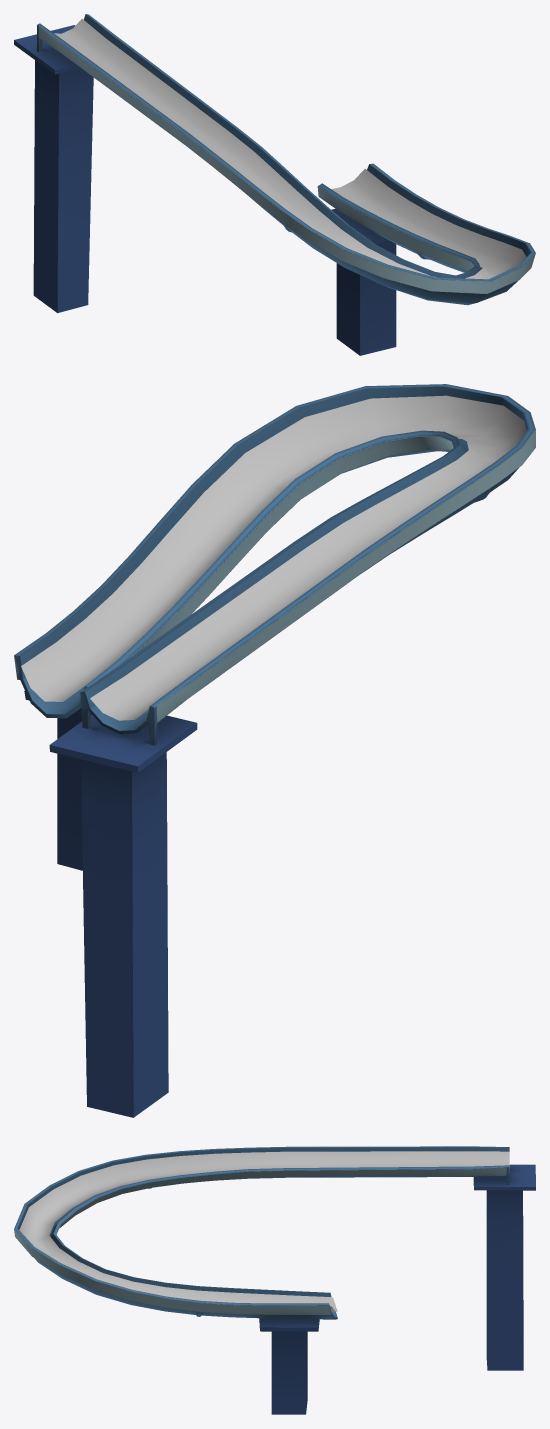
Rendered from slide2 (1).fbx.
The picture shows the model from 3 angles, top to bottom: view 1: azimuth 30°, elevation 25°; view 2: azimuth 150°, elevation 25°; view 3: azimuth 270°, elevation 25°; orthographic projection. The views are drawn at different scales.
Parts seen in each view (by area): view 1: slide, water; view 2: slide, water; view 3: slide, water.
Boxes of the visible parts, box(x1,y1,x2,y2) form: slide: box(14, 14, 535, 355); water: box(54, 19, 526, 279); slide: box(14, 384, 535, 1117); water: box(21, 395, 526, 720); slide: box(14, 1146, 535, 1414); water: box(19, 1151, 509, 1311).
Bounding box in the file's own units: 11.02 × 12.82 × 28.74.
